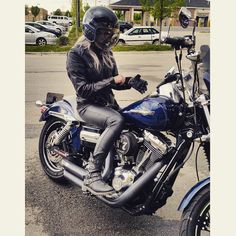helmet: (84, 8, 119, 49)
